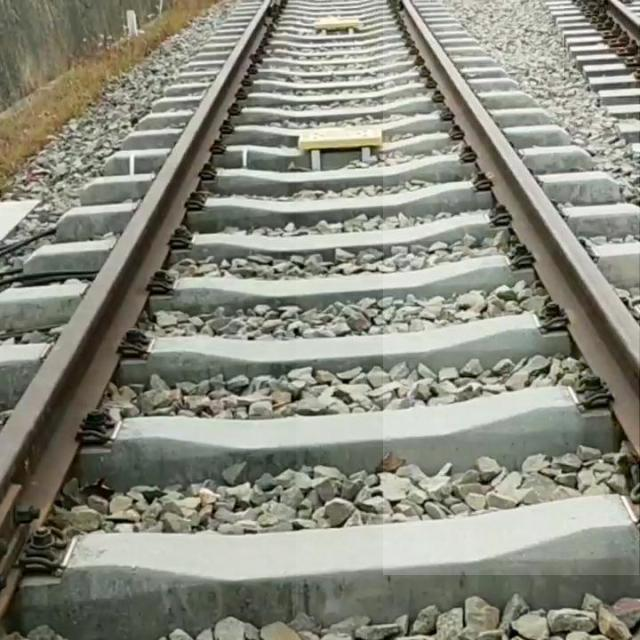rail: (1, 1, 297, 640), (384, 1, 640, 576), (566, 1, 640, 99)
